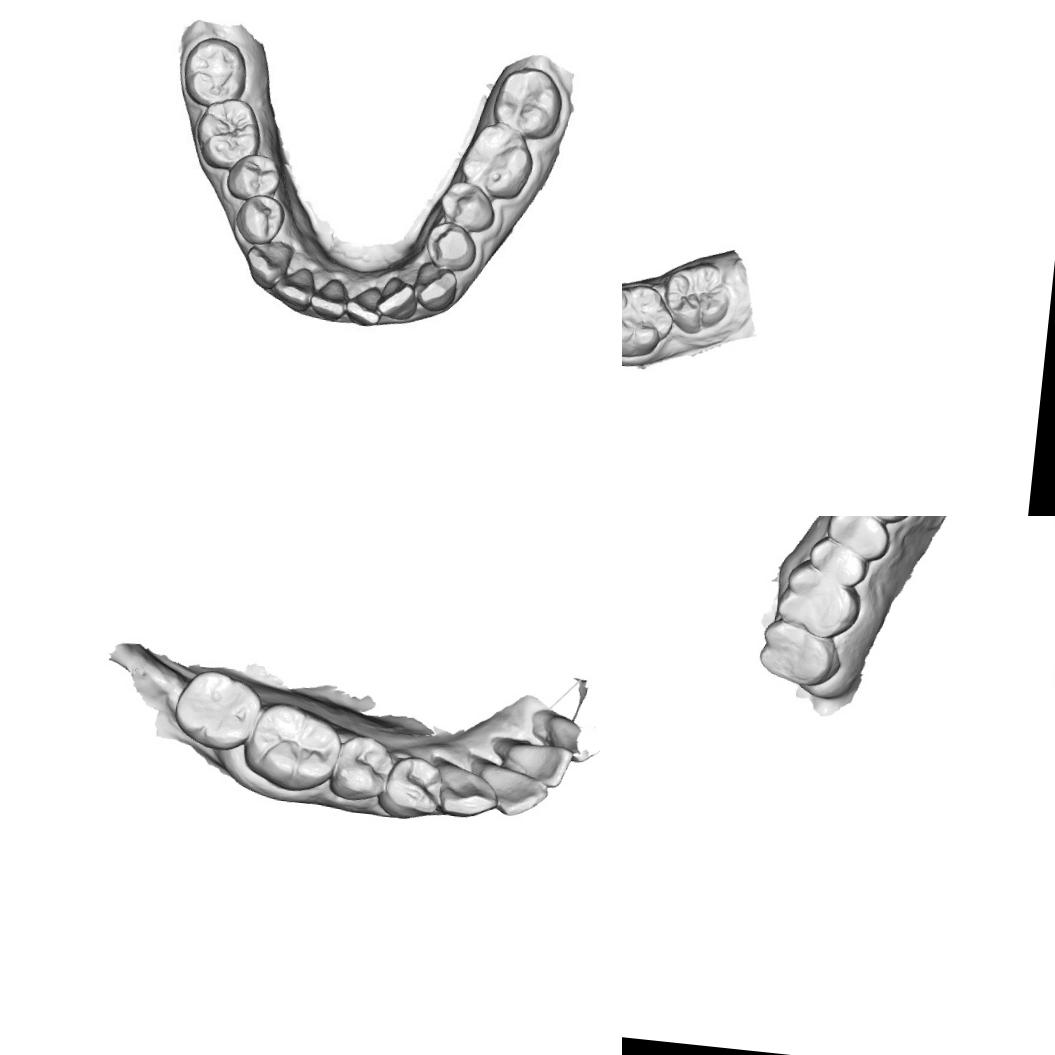canine: (430, 755, 500, 822), (242, 240, 297, 288), (416, 265, 460, 312)
incisor: (481, 756, 548, 821), (502, 737, 575, 792), (377, 277, 417, 320), (275, 264, 316, 304), (313, 274, 351, 314), (346, 288, 380, 323)
molar: (240, 698, 342, 797), (167, 664, 262, 756), (773, 558, 866, 644), (755, 615, 847, 692), (460, 119, 535, 203), (660, 256, 734, 339), (178, 32, 248, 107), (493, 64, 564, 136), (622, 280, 677, 362), (196, 98, 260, 168), (805, 534, 870, 589)
premolar: (327, 730, 397, 803), (378, 753, 446, 824), (823, 516, 895, 564), (438, 179, 500, 232), (231, 148, 282, 202), (424, 225, 478, 271), (235, 193, 284, 241)
